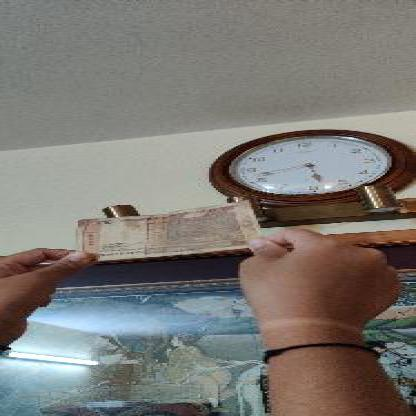New10Back: (77, 206, 237, 254)
